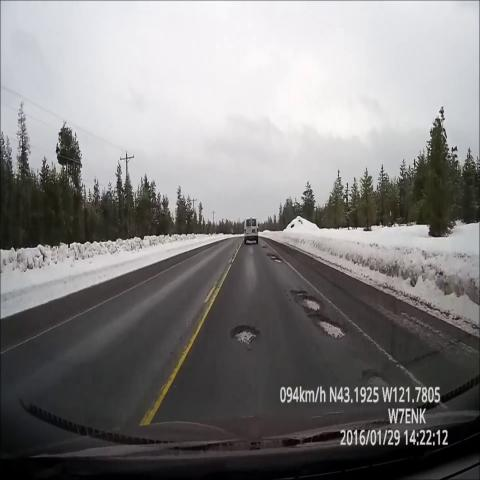pothole: (287, 283, 353, 344), (229, 311, 266, 359), (352, 360, 400, 393), (267, 246, 287, 270), (260, 238, 271, 255)
